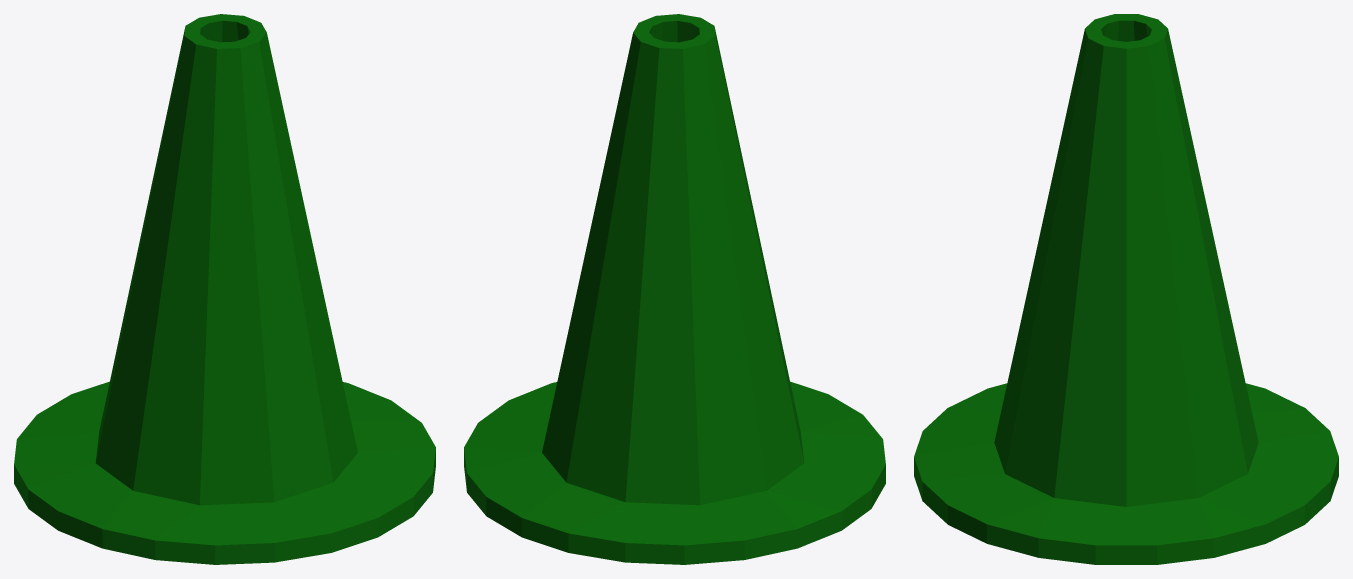
The model's file is RoadCone.obj.
The picture shows the model from 3 angles, left to right: view 1: azimuth 30°, elevation 25°; view 2: azimuth 150°, elevation 25°; view 3: azimuth 270°, elevation 25°; orthographic projection.
Parts seen in each view (by area): view 1: Cone_LP_UV; view 2: Cone_LP_UV; view 3: Cone_LP_UV.
Part boxes in pixels (x1,y1,x2,y2): Cone_LP_UV: (14, 14, 435, 564); Cone_LP_UV: (464, 14, 885, 564); Cone_LP_UV: (914, 14, 1338, 564).
Bounding box in the file's own units: 33.52 × 39.14 × 33.86.
